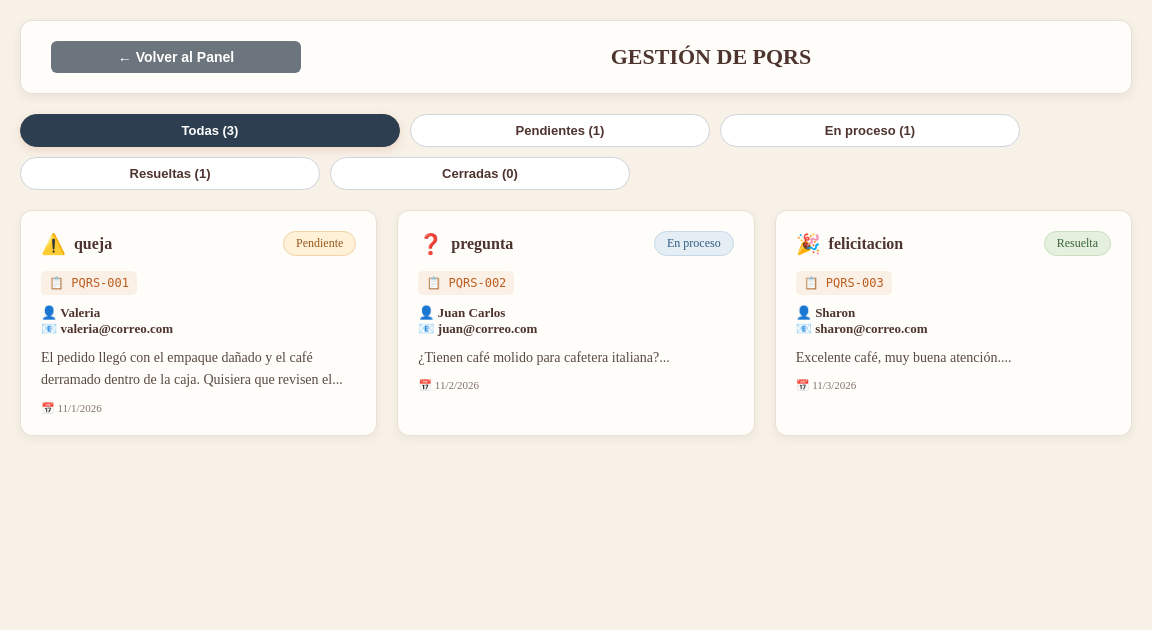
Test: VerPqrs - actualizar estado › el select muestra el estado actual de la PQRS
Expected: the heading "GESTIÓN DE PQRS" is shown, [611,44,811,69]
Click the text "📋 PQRS-002". click: (466, 283)
box: [418,271,514,295]
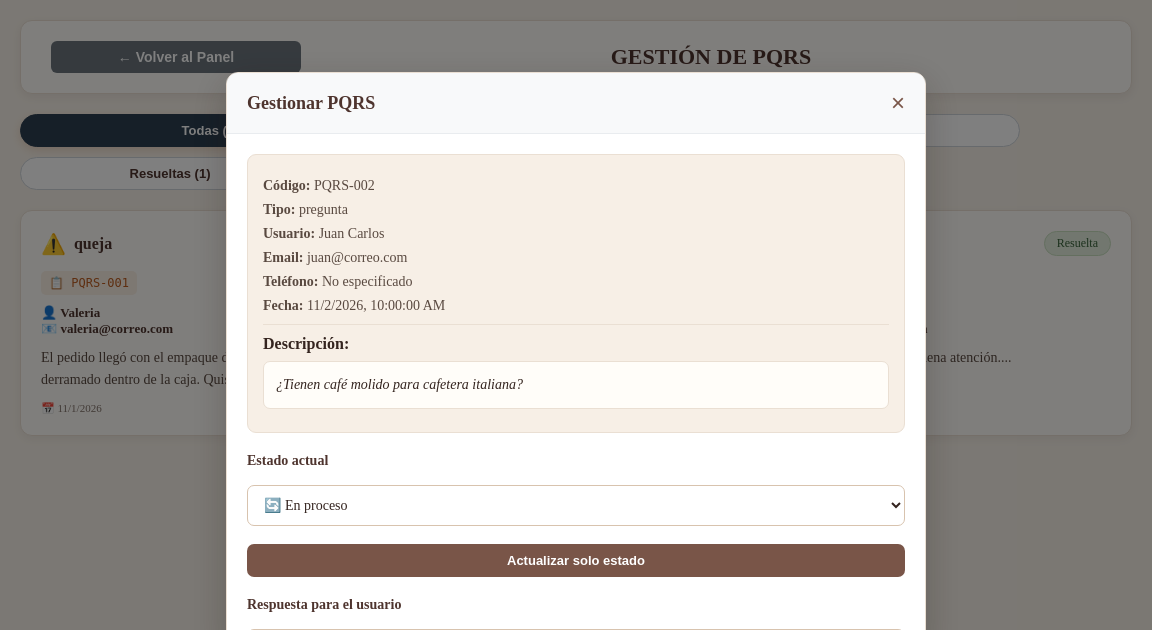
Expected: the heading "Gestionar PQRS" is shown, [247,92,375,114]
Expected: the dropdown shows "🔄 En proceso", [247,485,905,526]
